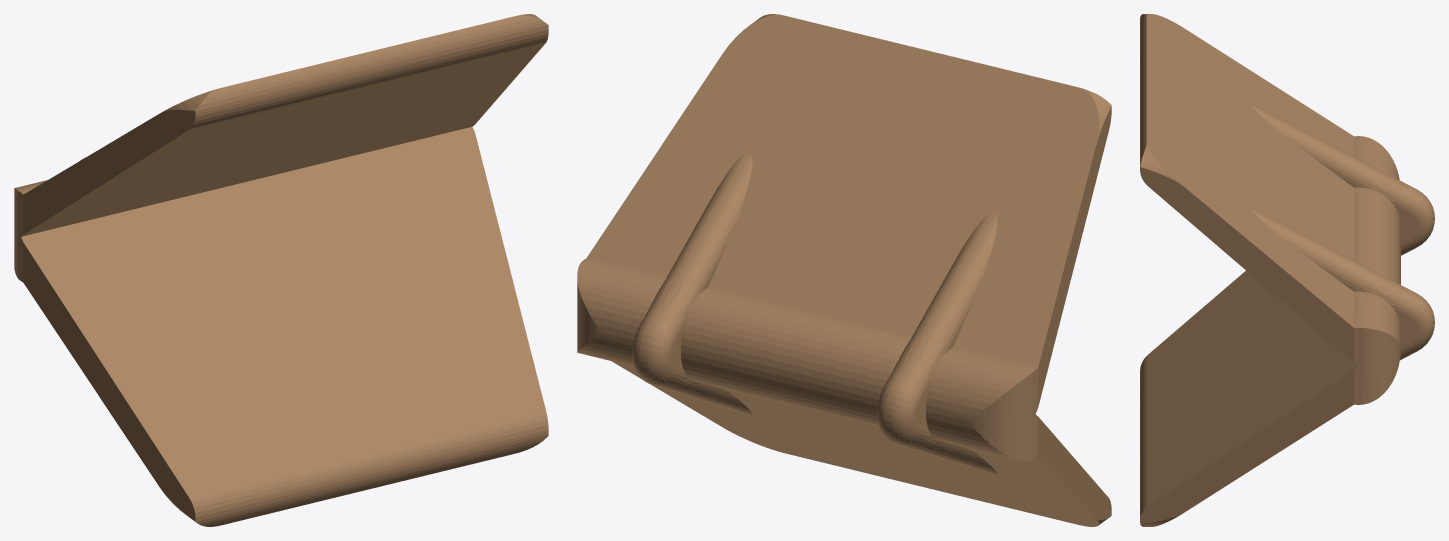
3 views of the same model, side by side, from view 1: azimuth 30°, elevation 25°; view 2: azimuth 150°, elevation 25°; view 3: azimuth 270°, elevation 25° (orthographic). The views are drawn at different scales.
Parts seen in each view (by area): view 1: 10073612; view 2: 10073612; view 3: 10073612.
Part boxes in pixels (x1,y1,x2,y2): 10073612: (14,14,548,526); 10073612: (577,14,1111,526); 10073612: (1140,14,1434,526).
Bounding box in the file's own units: 1 × 0.9261 × 0.6499.
